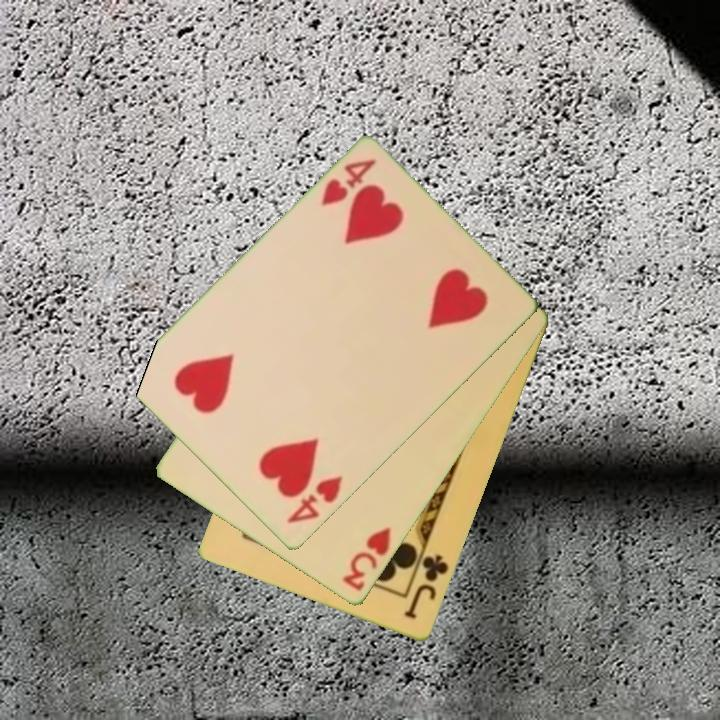3h: (338, 524, 394, 595)
4h: (283, 472, 346, 528), (318, 156, 379, 210)
Jc: (401, 551, 452, 623)
